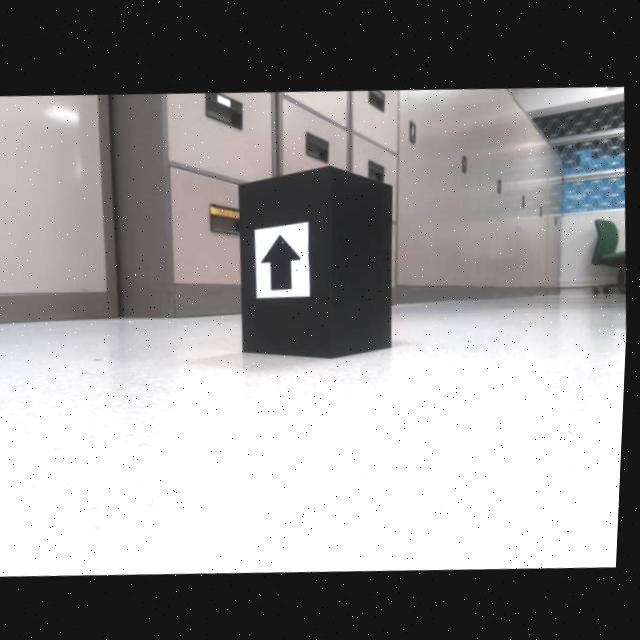UP: (263, 233, 307, 290)
